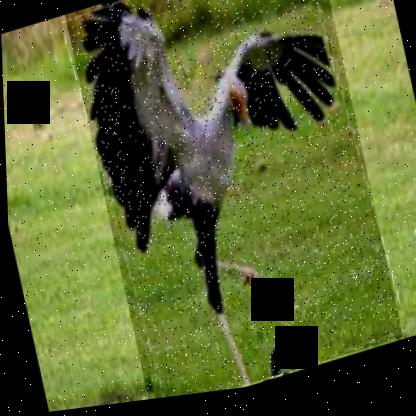Sagittarius serpentarius: (63, 0, 402, 409)
